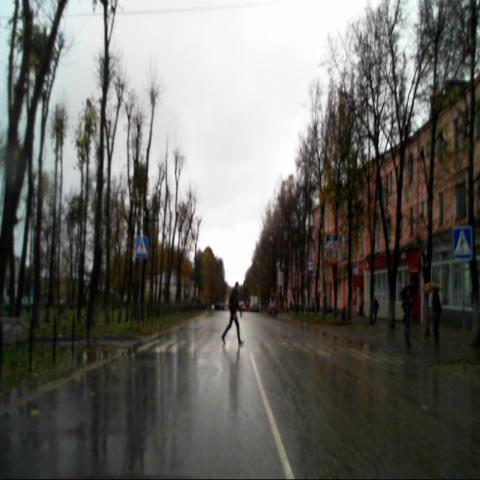5_19_1: (453, 226, 472, 259)
